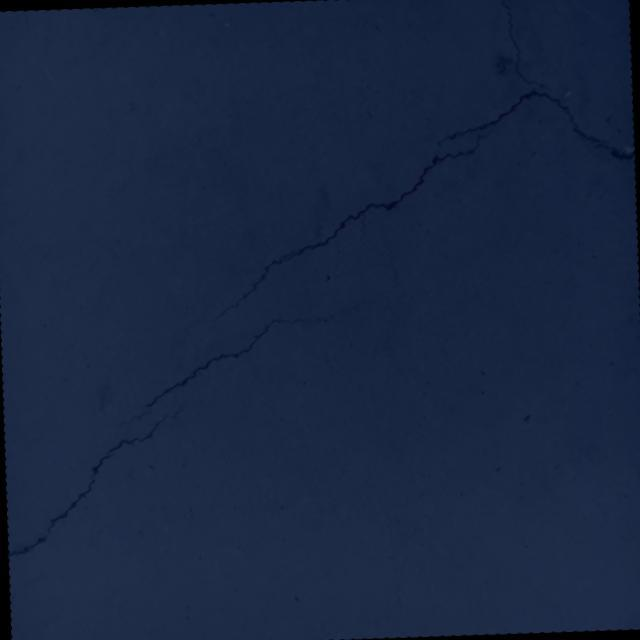crack: (187, 0, 640, 341), (123, 300, 374, 425), (3, 394, 196, 556)
